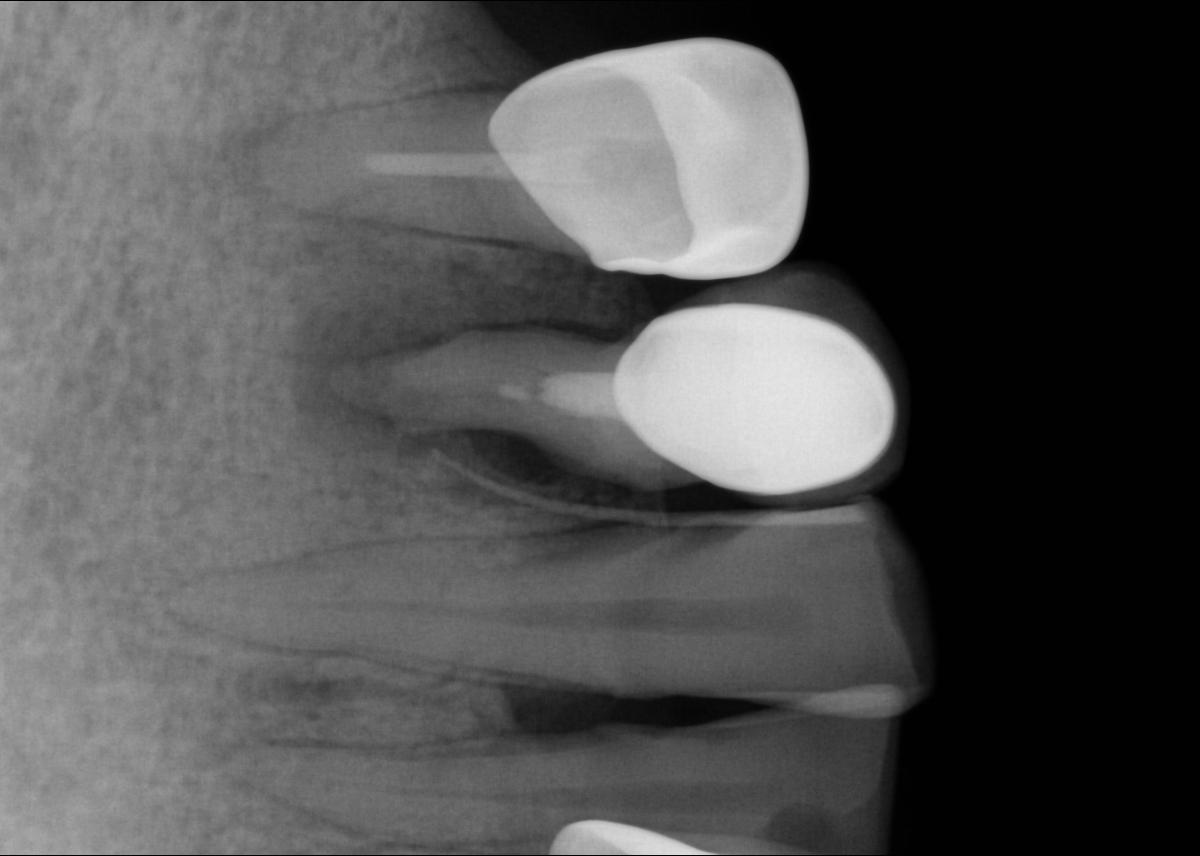Dental Caries: (290, 287, 464, 461), (462, 429, 565, 488), (465, 314, 627, 342)
Furcation Involvement: (217, 114, 293, 198)
